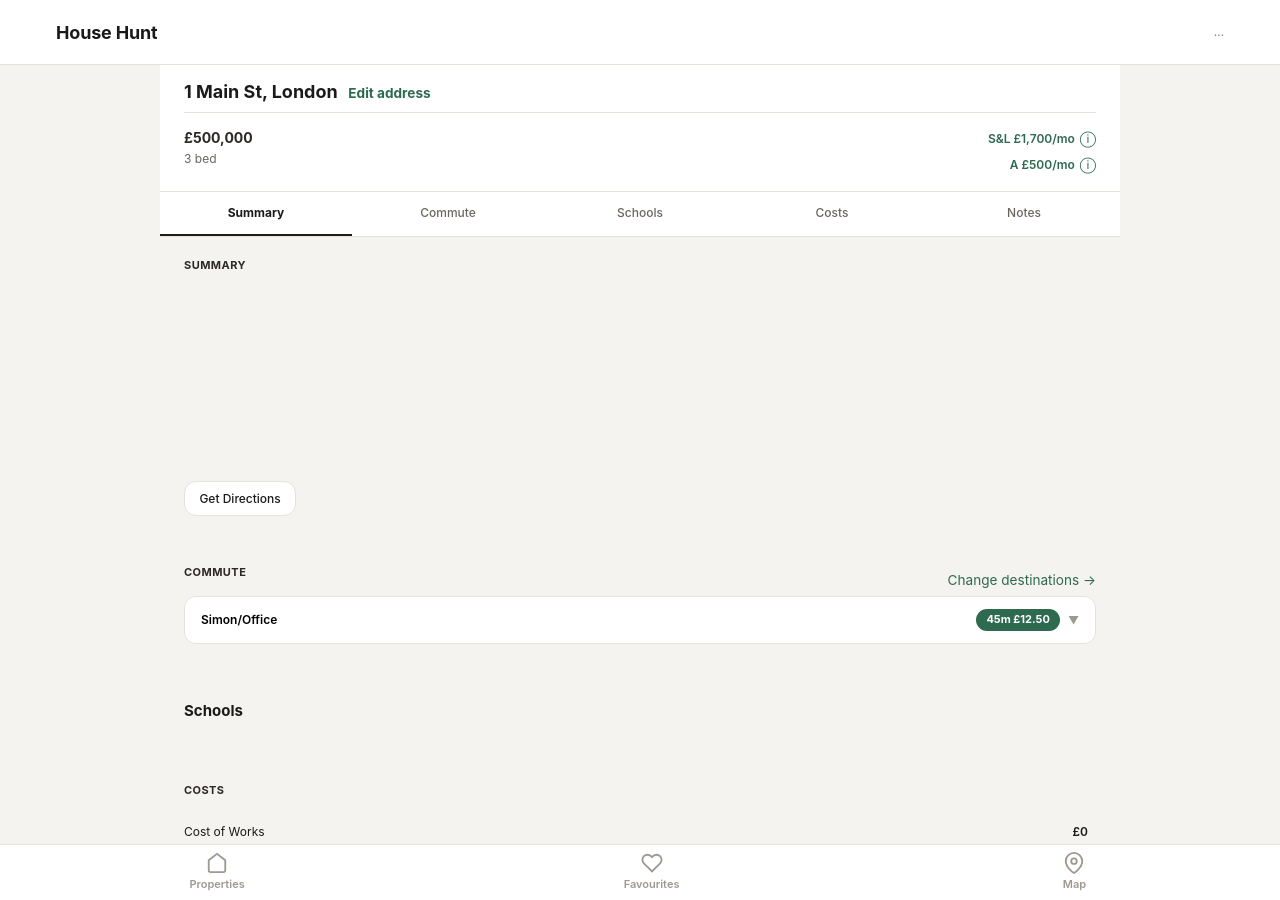
Test: PropertyDetail renders commute legs from CostGroups › displays cost correctly for both raw number and {amount,currency} formats
Note: Click accordion header to expand
Click the button with class "commute-accordion__header" at (239, 620), box [185,597,1095,643]
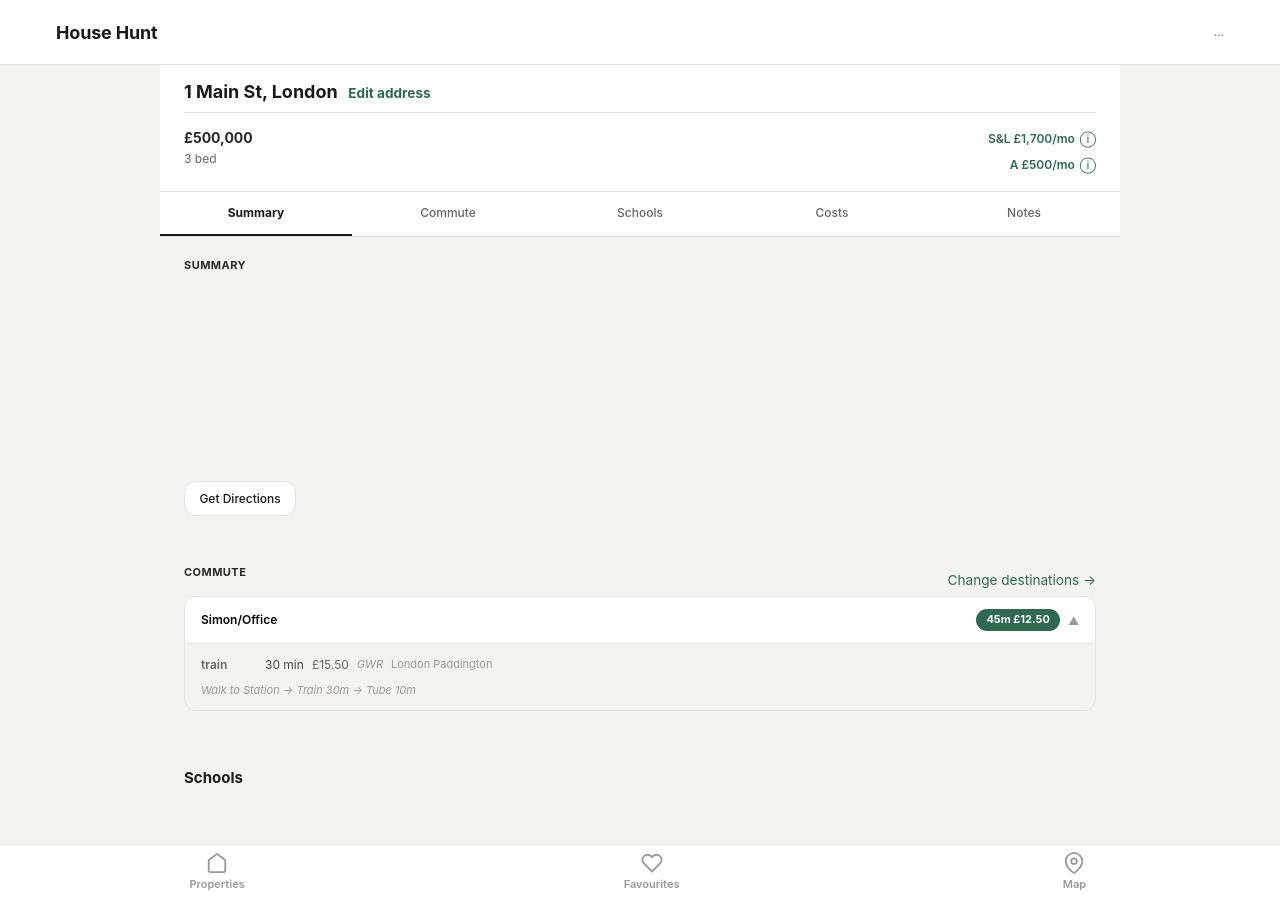
Check: the text "train" is shown, box [201,657,227,672]
Check: the text "30 min" is shown, box [265,656,304,674]
Check: the text "15.50" is shown, box [312,657,349,672]
